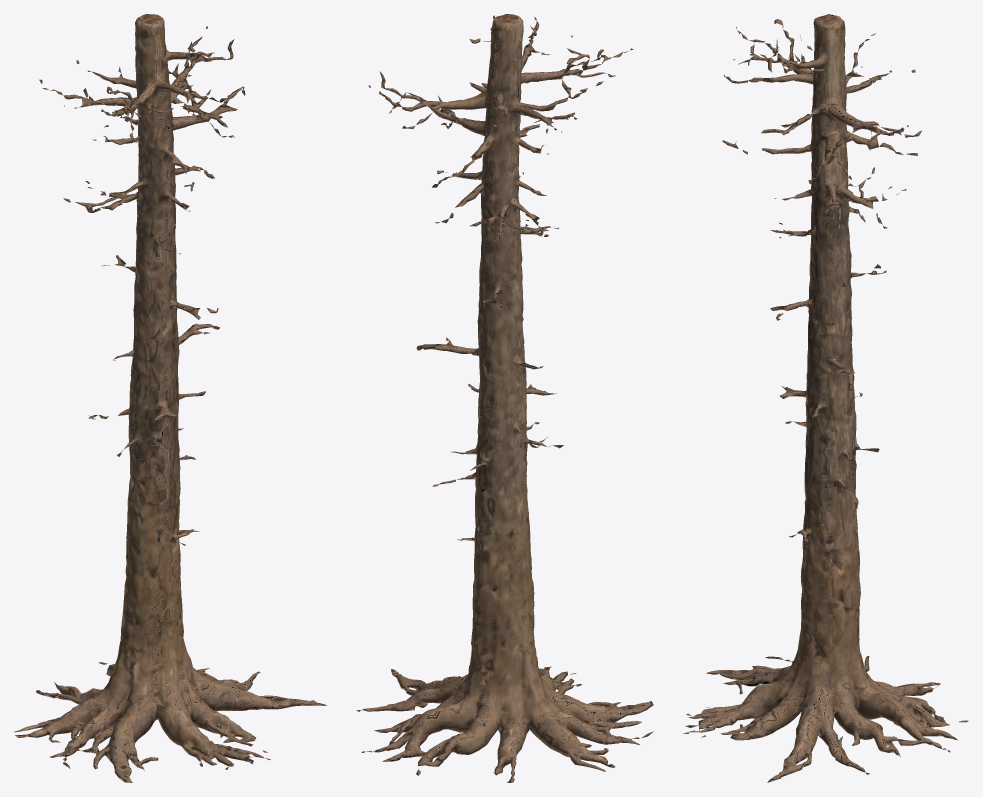
3 views of the same model, side by side, from view 1: azimuth 30°, elevation 25°; view 2: azimuth 150°, elevation 25°; view 3: azimuth 270°, elevation 25° (orthographic). The views are drawn at different scales.
Bounding box in the file's own units: 0.796 × 2 × 0.7464.
Materials: 1 (1 with a texture image).
